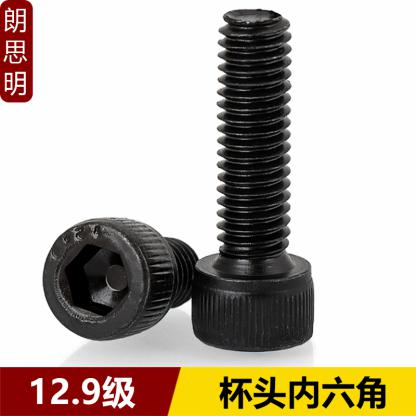FOD: (188, 6, 320, 356), (40, 215, 202, 343)
